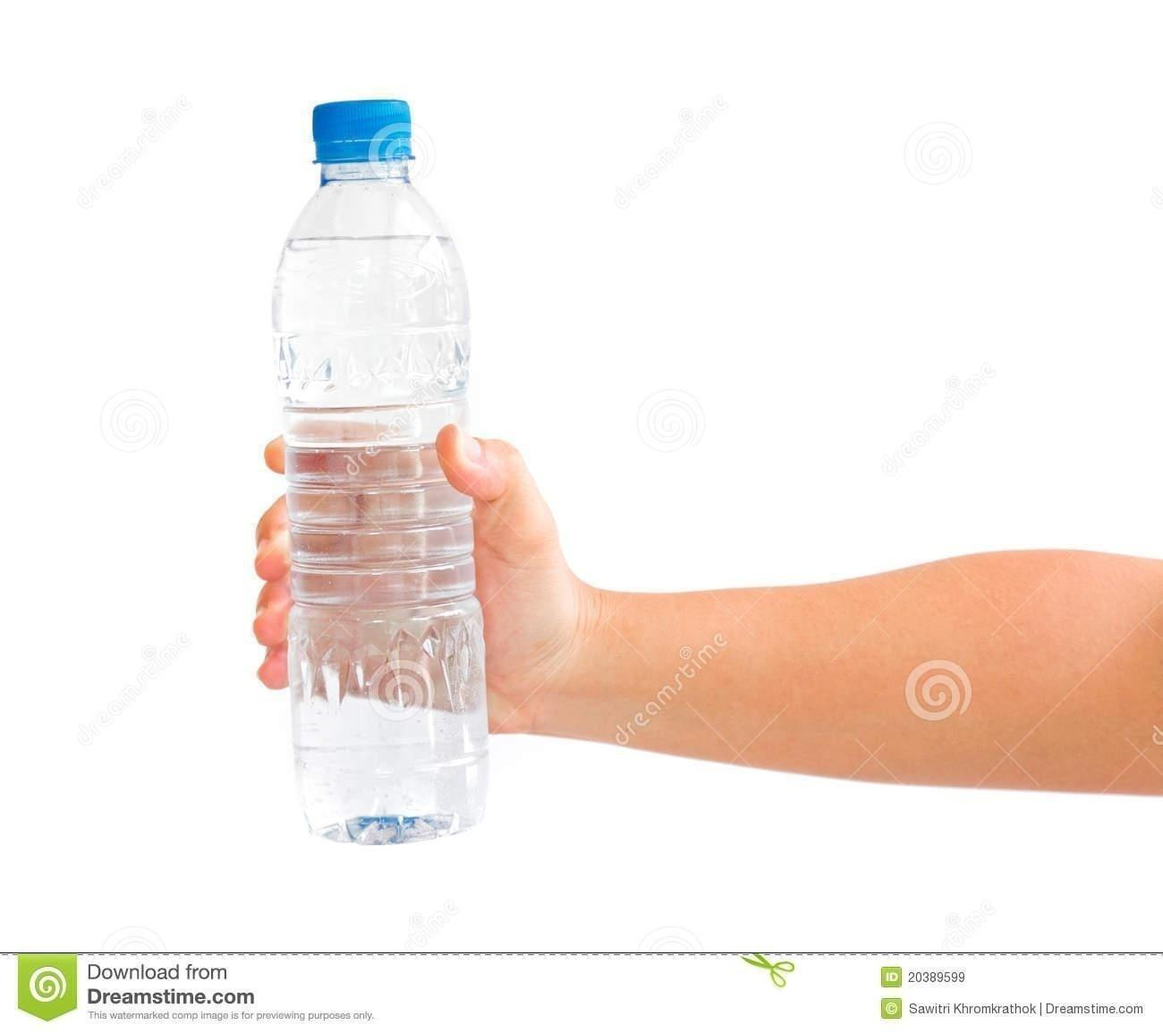bottle-plastic: (267, 94, 494, 851)
